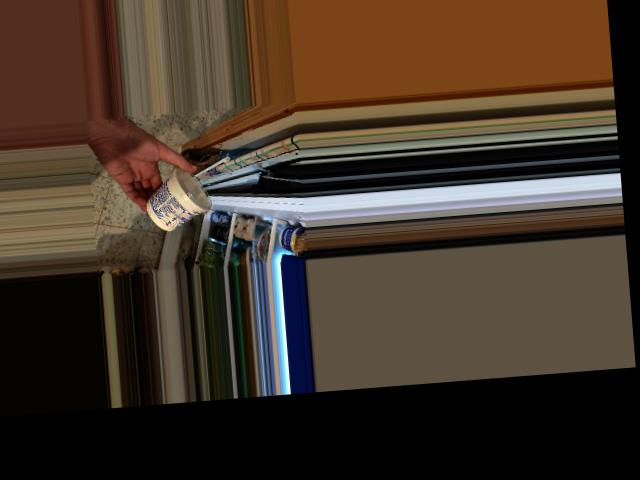cotage: (144, 160, 204, 225)
